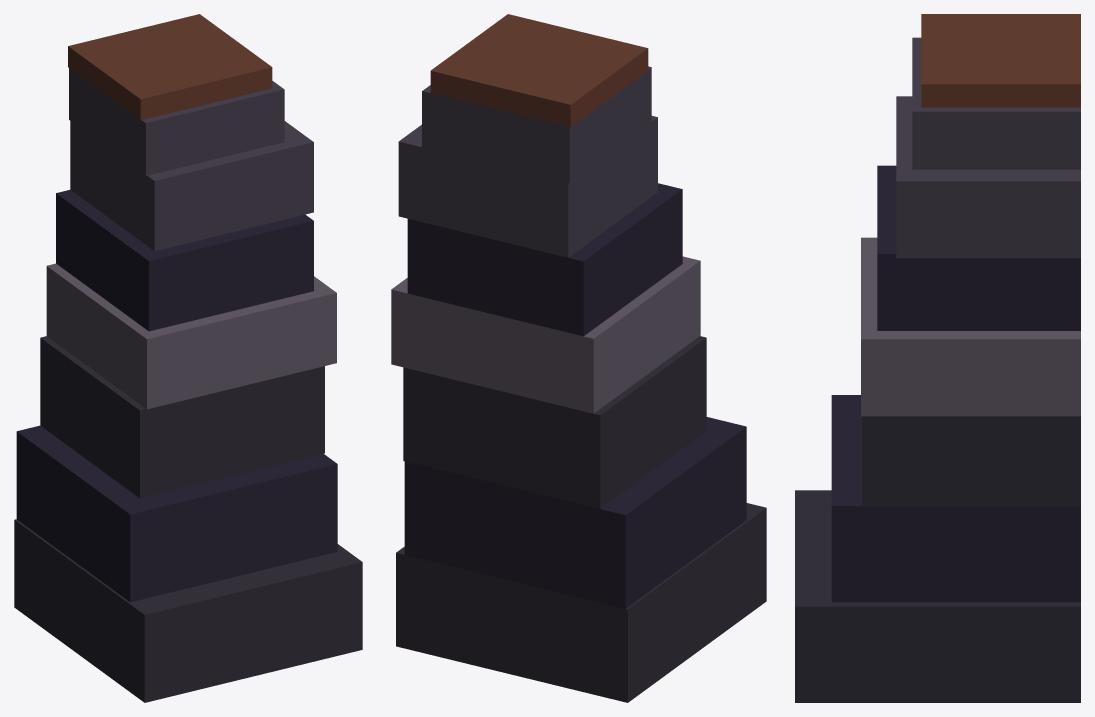
The model's file is BasaltButtress.glb.
The picture shows the model from 3 angles, left to right: view 1: azimuth 30°, elevation 25°; view 2: azimuth 150°, elevation 25°; view 3: azimuth 270°, elevation 25°; orthographic projection. The views are drawn at different scales.
Visible parts, largest first — view 1: BasaltButtress; view 2: BasaltButtress; view 3: BasaltButtress.
Boxes of the visible parts, bbox=[...] form: BasaltButtress: bbox=[14, 14, 362, 702]; BasaltButtress: bbox=[391, 14, 766, 702]; BasaltButtress: bbox=[795, 14, 1080, 702].
Size of the model in its own units: 6.61 by 15.6 by 6.72.
1 material, 1 textured.
